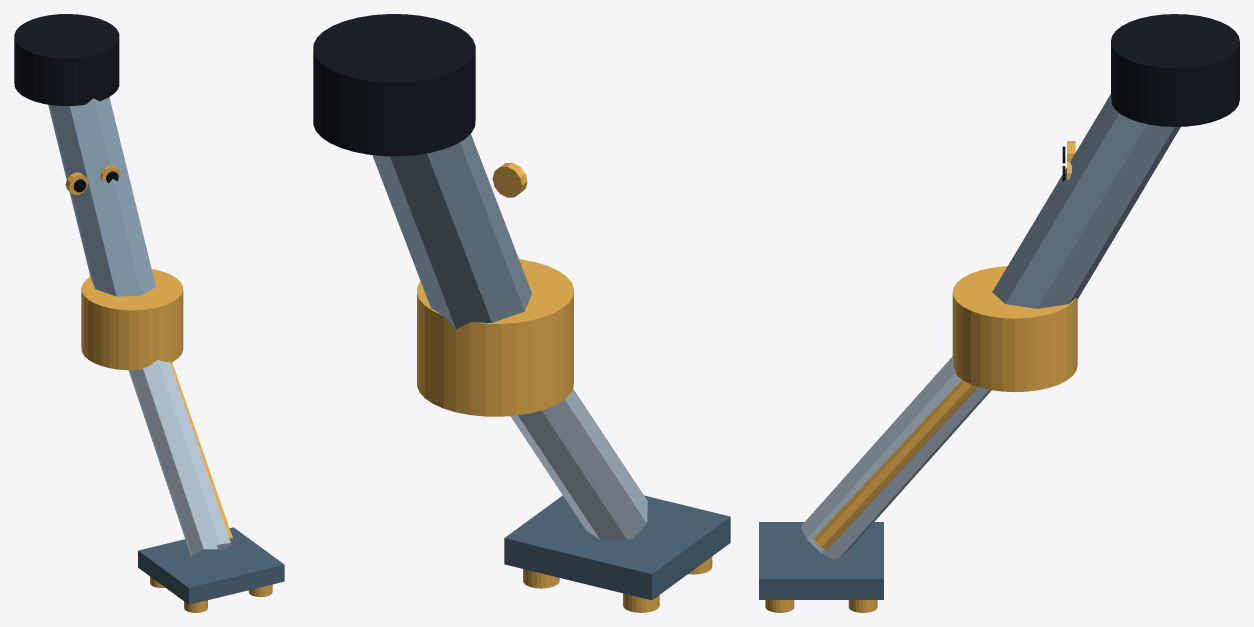
The model's file is 18_L92_ArticulatedLandingLegA.fbx.
The picture shows the model from 3 angles, left to right: view 1: azimuth 30°, elevation 25°; view 2: azimuth 150°, elevation 25°; view 3: azimuth 270°, elevation 25°; orthographic projection. The views are drawn at different scales.
Visible parts, largest first — view 1: L92_ArticulatedLandingLegA_Part_0000, L92_ArticulatedLandingLegA_Part_0002, L92_ArticulatedLandingLegA_Part_0003, L92_ArticulatedLandingLegA_Part_0004, L92_ArticulatedLandingLegA_Part_0005, L92_ArticulatedLandingLegA_Part_0006; view 2: L92_ArticulatedLandingLegA_Part_0002, L92_ArticulatedLandingLegA_Part_0000, L92_ArticulatedLandingLegA_Part_0003, L92_ArticulatedLandingLegA_Part_0005, L92_ArticulatedLandingLegA_Part_0004, L92_ArticulatedLandingLegA_Part_0006, L92_ArticulatedLandingLegA_Part_0007; view 3: L92_ArticulatedLandingLegA_Part_0000, L92_ArticulatedLandingLegA_Part_0003, L92_ArticulatedLandingLegA_Part_0002, L92_ArticulatedLandingLegA_Part_0004, L92_ArticulatedLandingLegA_Part_0005, L92_ArticulatedLandingLegA_Part_0006.
Part boxes in pixels (box(x1,y1,x2,y2)): L92_ArticulatedLandingLegA_Part_0000: box(48, 97, 155, 296); L92_ArticulatedLandingLegA_Part_0002: box(14, 14, 119, 105); L92_ArticulatedLandingLegA_Part_0003: box(81, 269, 232, 540); L92_ArticulatedLandingLegA_Part_0004: box(128, 360, 230, 557); L92_ArticulatedLandingLegA_Part_0005: box(138, 527, 284, 604); L92_ArticulatedLandingLegA_Part_0006: box(150, 576, 272, 612); L92_ArticulatedLandingLegA_Part_0002: box(313, 14, 475, 156); L92_ArticulatedLandingLegA_Part_0000: box(372, 134, 531, 328); L92_ArticulatedLandingLegA_Part_0003: box(417, 259, 573, 416); L92_ArticulatedLandingLegA_Part_0005: box(504, 495, 730, 600); L92_ArticulatedLandingLegA_Part_0004: box(510, 389, 647, 540); L92_ArticulatedLandingLegA_Part_0006: box(523, 556, 712, 612); L92_ArticulatedLandingLegA_Part_0007: box(492, 162, 527, 197); L92_ArticulatedLandingLegA_Part_0000: box(992, 94, 1180, 308); L92_ArticulatedLandingLegA_Part_0003: box(814, 266, 1077, 549); L92_ArticulatedLandingLegA_Part_0002: box(1111, 14, 1239, 126); L92_ArticulatedLandingLegA_Part_0004: box(800, 356, 991, 559); L92_ArticulatedLandingLegA_Part_0005: box(759, 522, 883, 599); L92_ArticulatedLandingLegA_Part_0006: box(765, 600, 877, 612).
Bounding box in the file's own units: 65 × 290 × 231.
